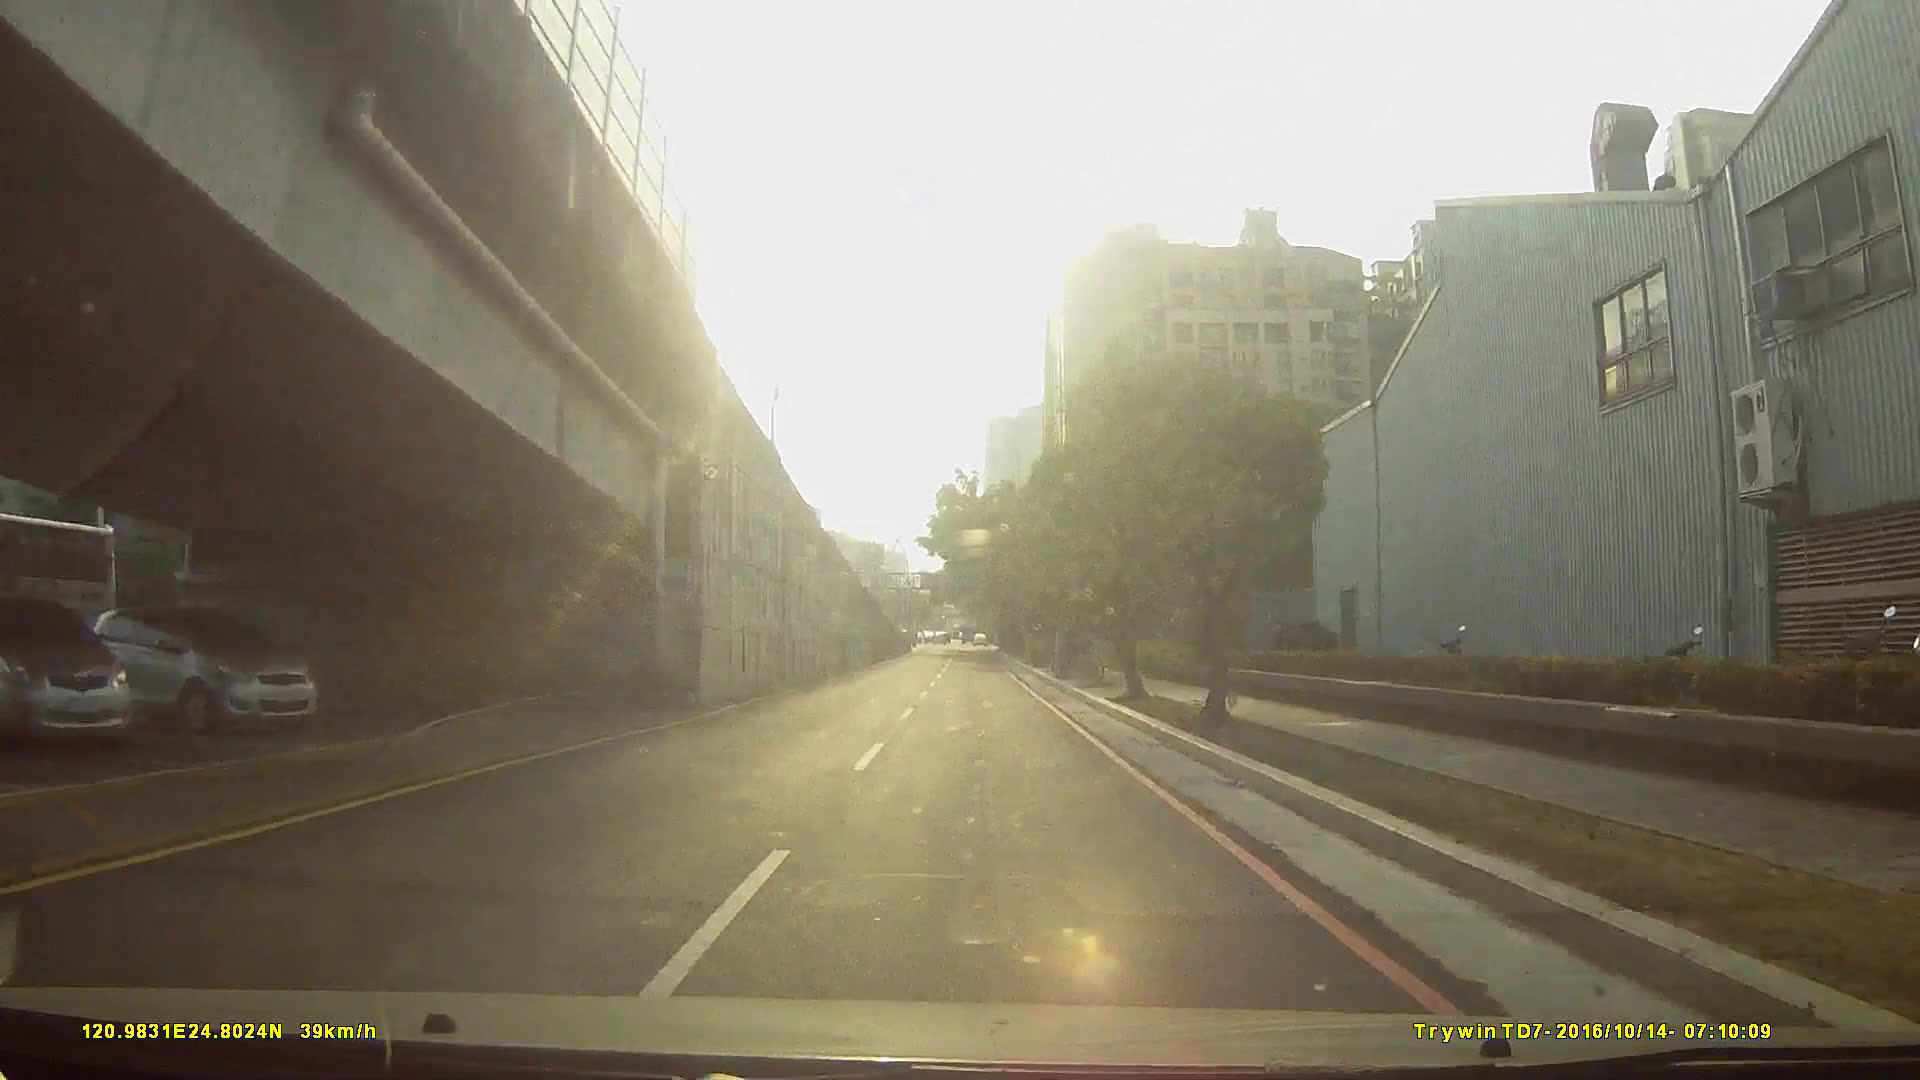vehicle: (67, 603, 327, 736), (1, 506, 131, 686), (1, 595, 141, 745)
